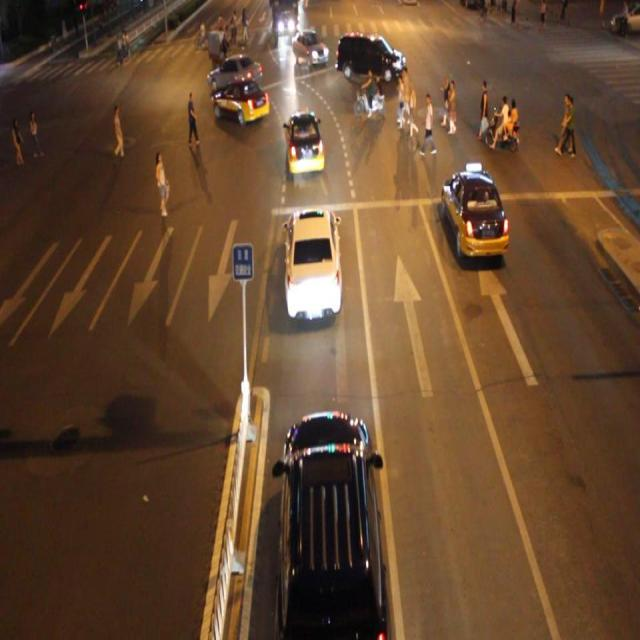car: (277, 410, 386, 640), (440, 167, 507, 263), (284, 206, 341, 318), (336, 30, 405, 84), (210, 76, 270, 126), (286, 110, 324, 176), (207, 52, 262, 93), (290, 27, 329, 69)
